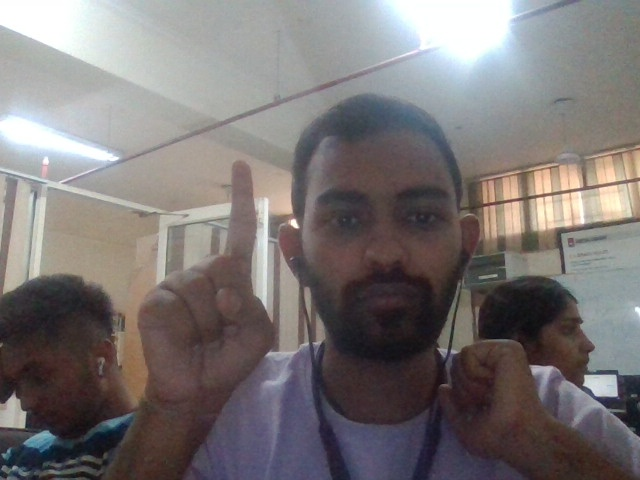Present: (136, 159, 274, 416)
